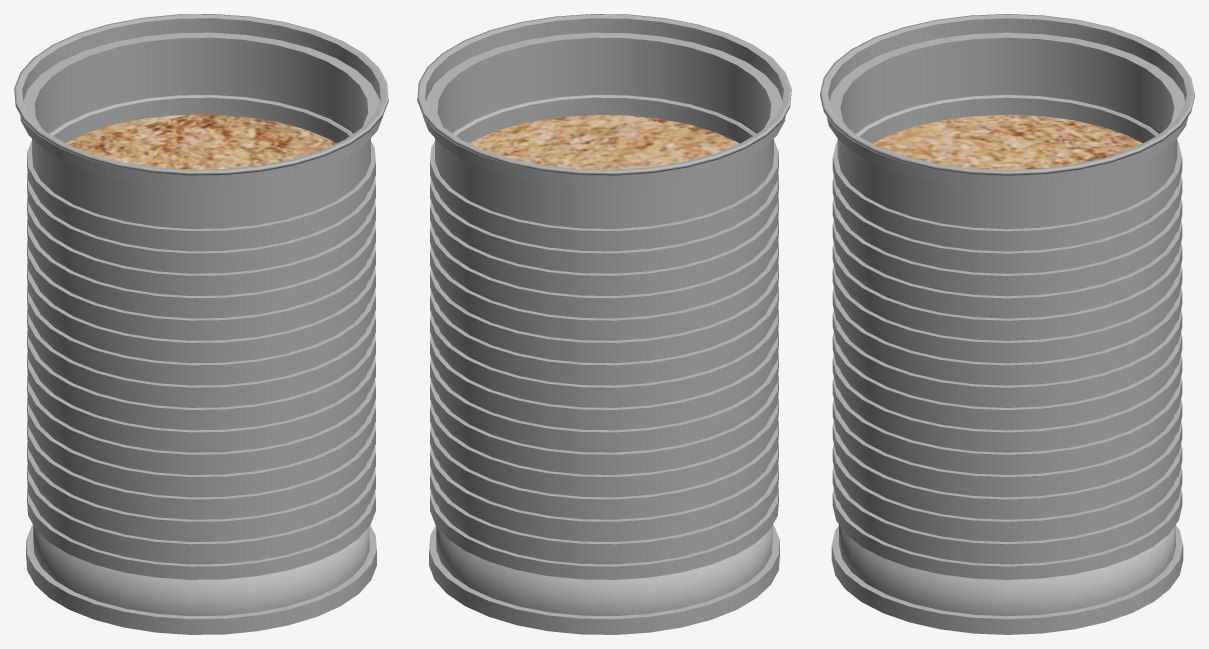
Rendered from CanwNuhhala.fbx.
3 views of the same model, side by side, from view 1: azimuth 30°, elevation 25°; view 2: azimuth 150°, elevation 25°; view 3: azimuth 270°, elevation 25° (orthographic).
Visible parts, largest first — view 1: Cylinder.002; view 2: Cylinder.002; view 3: Cylinder.002.
Boxes of the visible parts, <box> form: Cylinder.002: <box>14,14,388,634</box>; Cylinder.002: <box>417,14,791,634</box>; Cylinder.002: <box>820,14,1194,634</box>.
Size of the model in its own units: 96.5 by 133 by 96.5.
